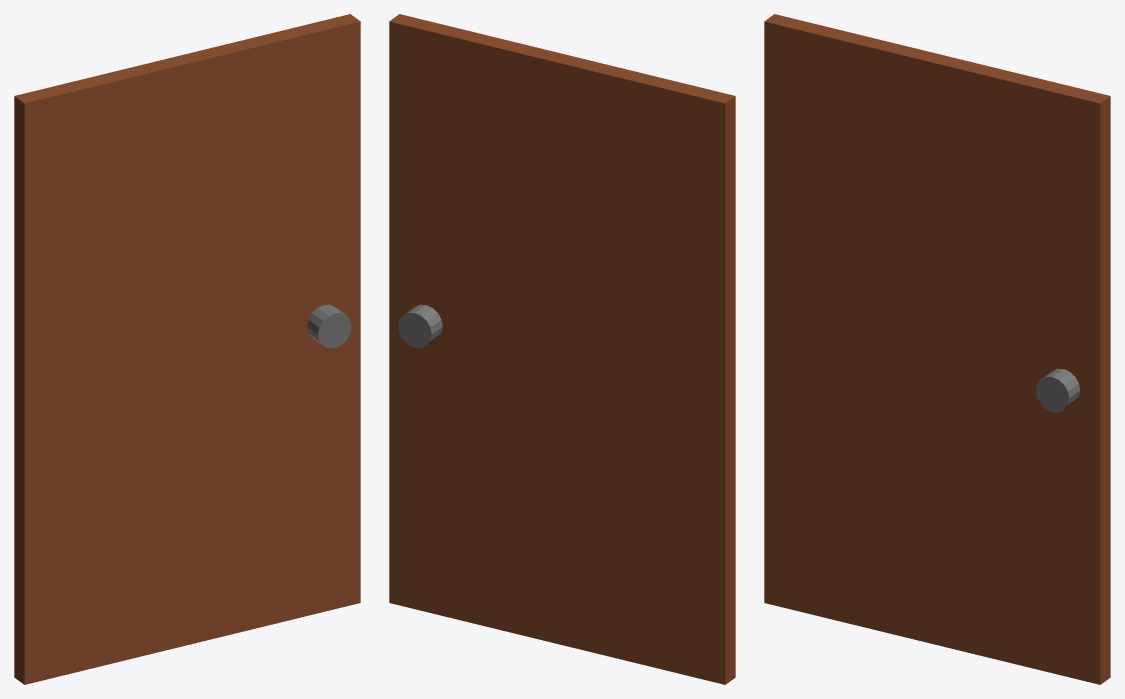
Rendered from door.fbx.
The picture shows the model from 3 angles, left to right: view 1: azimuth 30°, elevation 25°; view 2: azimuth 150°, elevation 25°; view 3: azimuth 330°, elevation 25°; orthographic projection.
Parts seen in each view (by area): view 1: Door; view 2: Door; view 3: Door.
Boxes of the visible parts, x1,y1,x2,y2 form: Door: (14, 14, 360, 684); Door: (389, 14, 735, 684); Door: (764, 14, 1110, 684).
Bounding box in the file's own units: 46.53 × 76.9 × 7.77.
